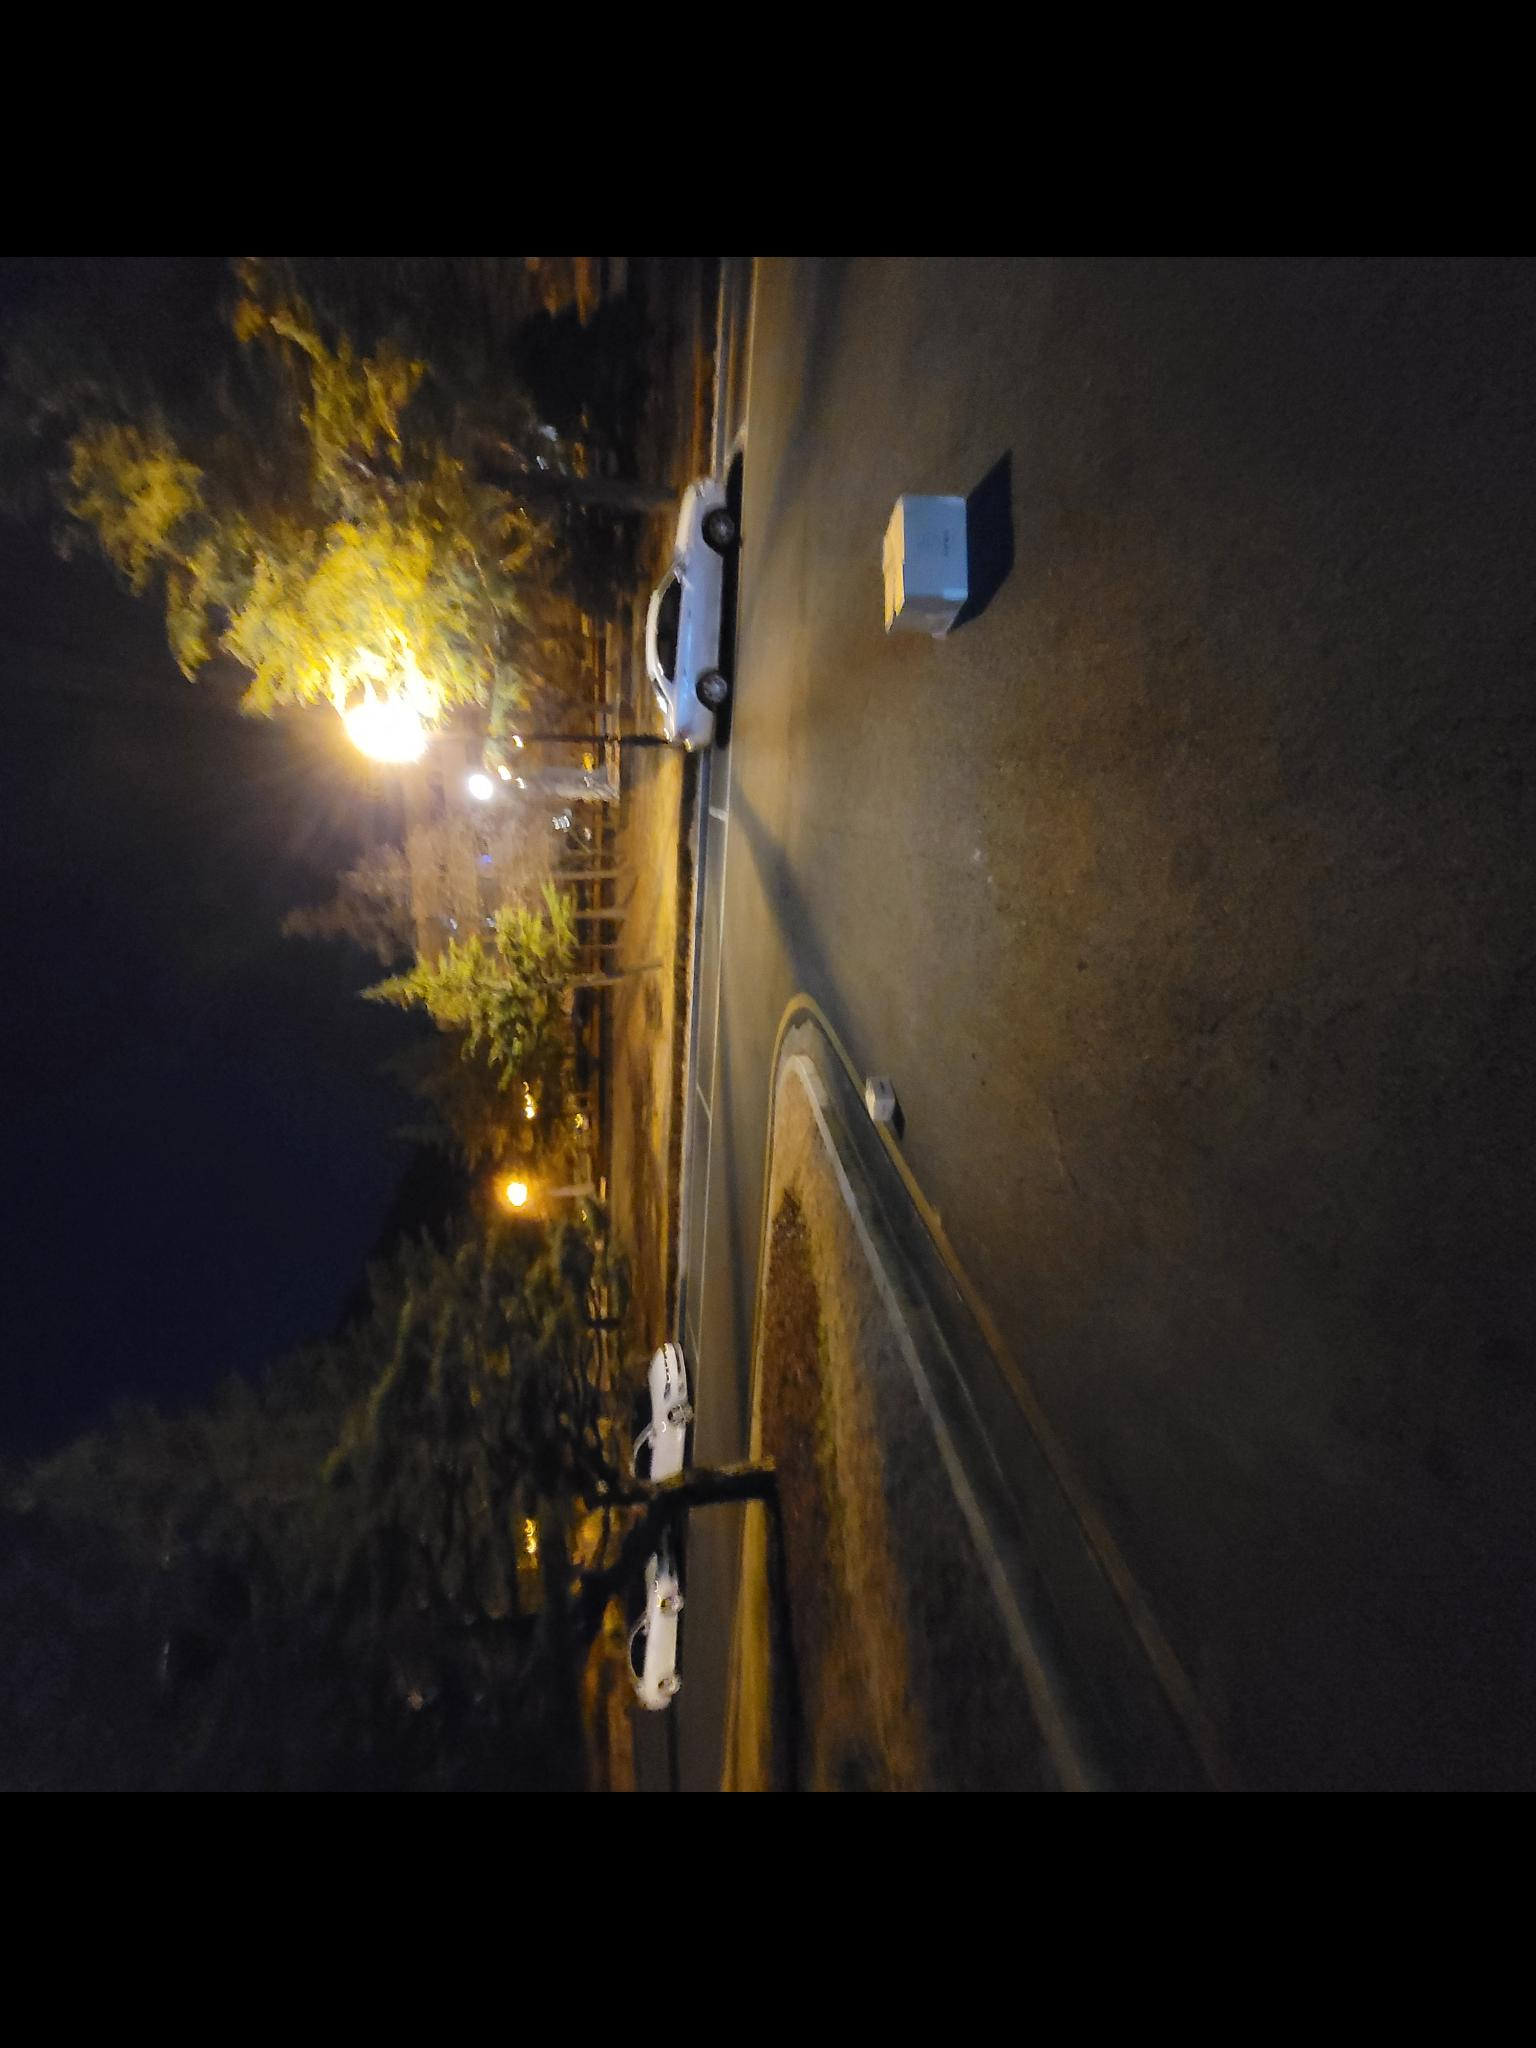Box: (865, 479, 981, 647), (857, 1069, 895, 1122)
